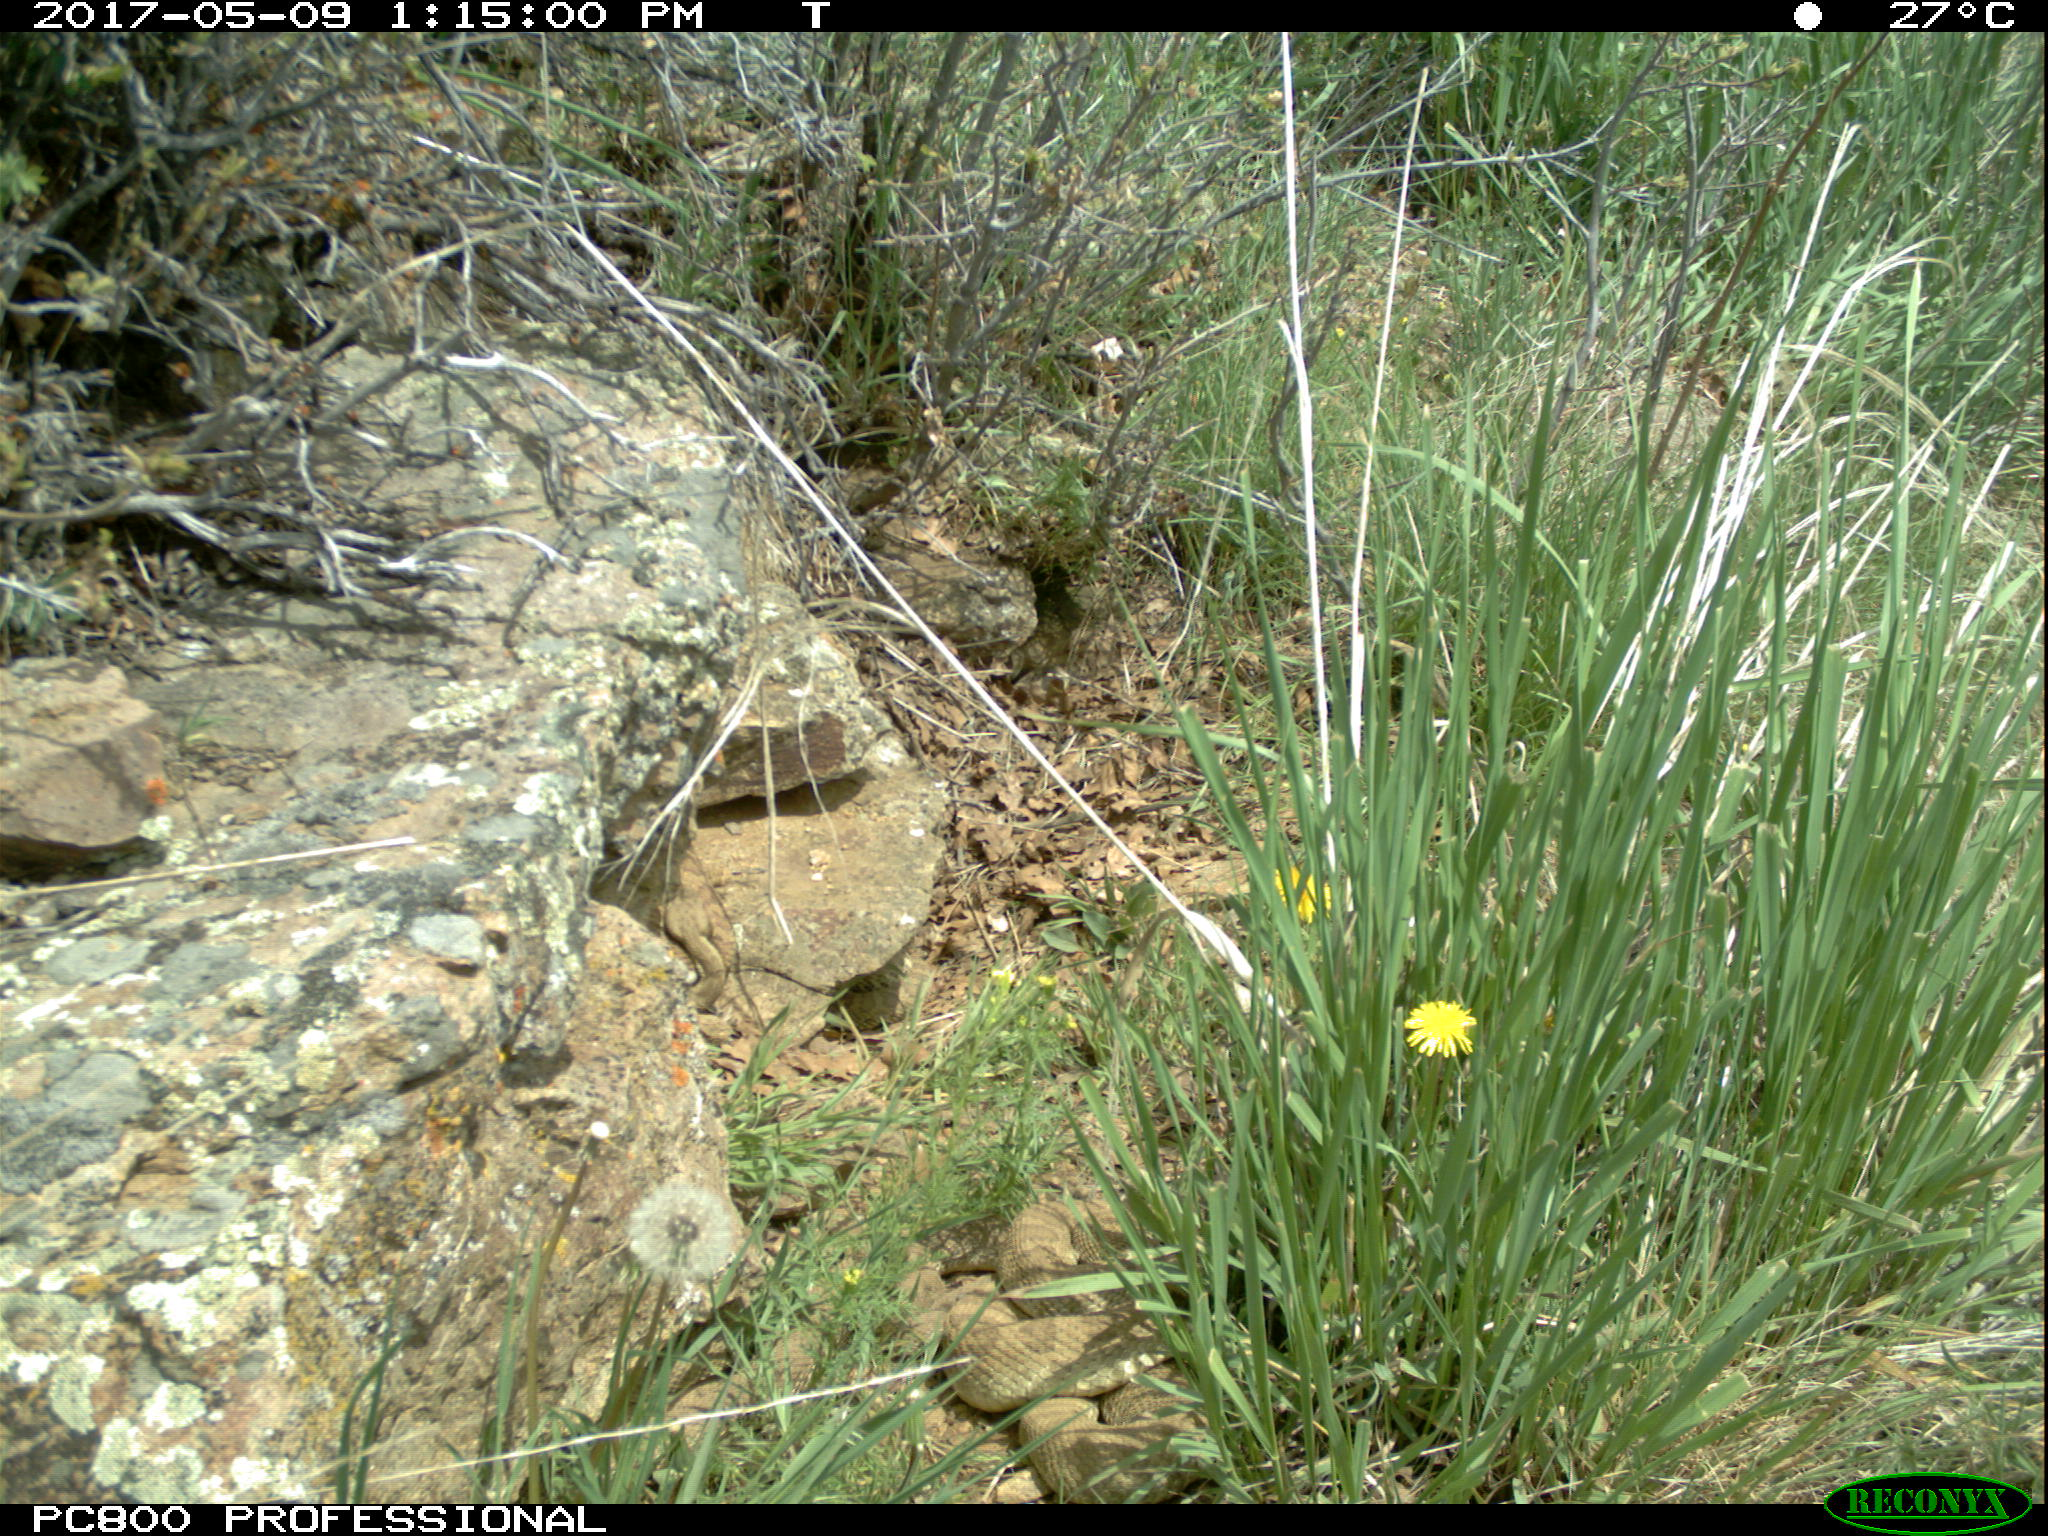snake: (948, 1191, 1174, 1396), (993, 1371, 1219, 1497), (656, 892, 732, 1018)
